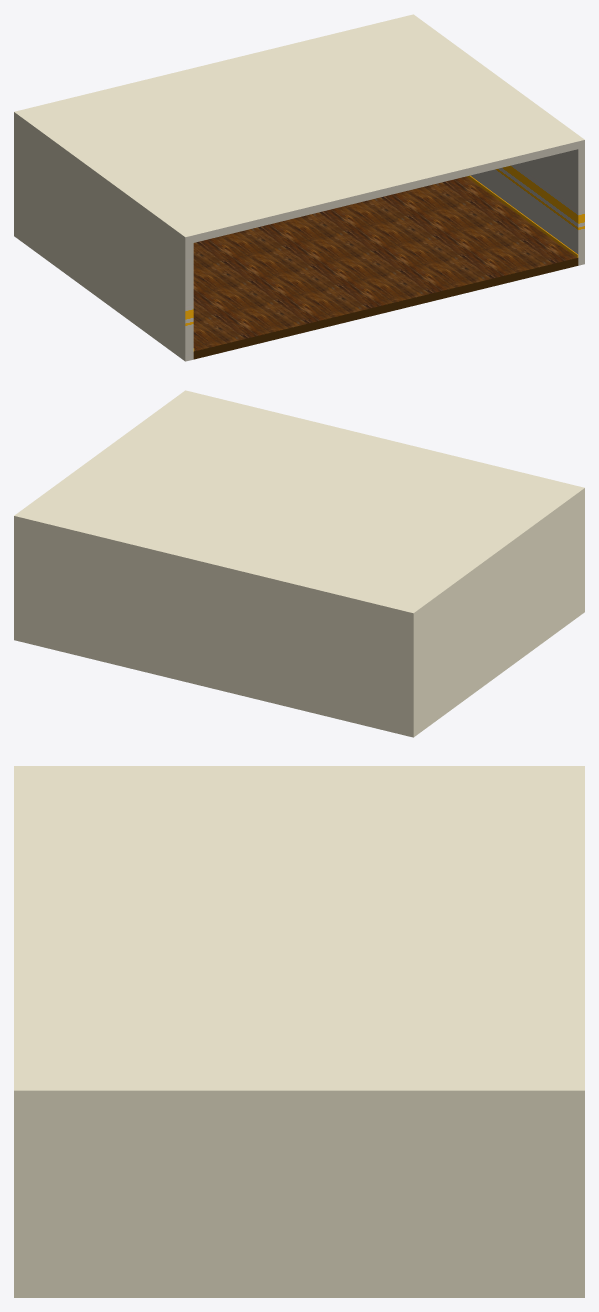
Rendered from room.glb.
3 renders of one model, top to bottom at view 1: azimuth 30°, elevation 25°; view 2: azimuth 150°, elevation 25°; view 3: azimuth 270°, elevation 25°, orthographic. The views are drawn at different scales.
Visible parts, largest first — view 1: mur1, parquet, late.001; view 2: mur1; view 3: mur1.
Boxes of the visible parts, x1,y1,x2,y2 form: mur1: [14, 14, 584, 361]; parquet: [193, 176, 578, 359]; late.001: [193, 175, 578, 351]; mur1: [14, 390, 584, 737]; mur1: [14, 766, 584, 1297].
Bounding box in the file's own units: 10.39 × 3.09 × 7.72.
Materials: 5 (2 with a texture image).
